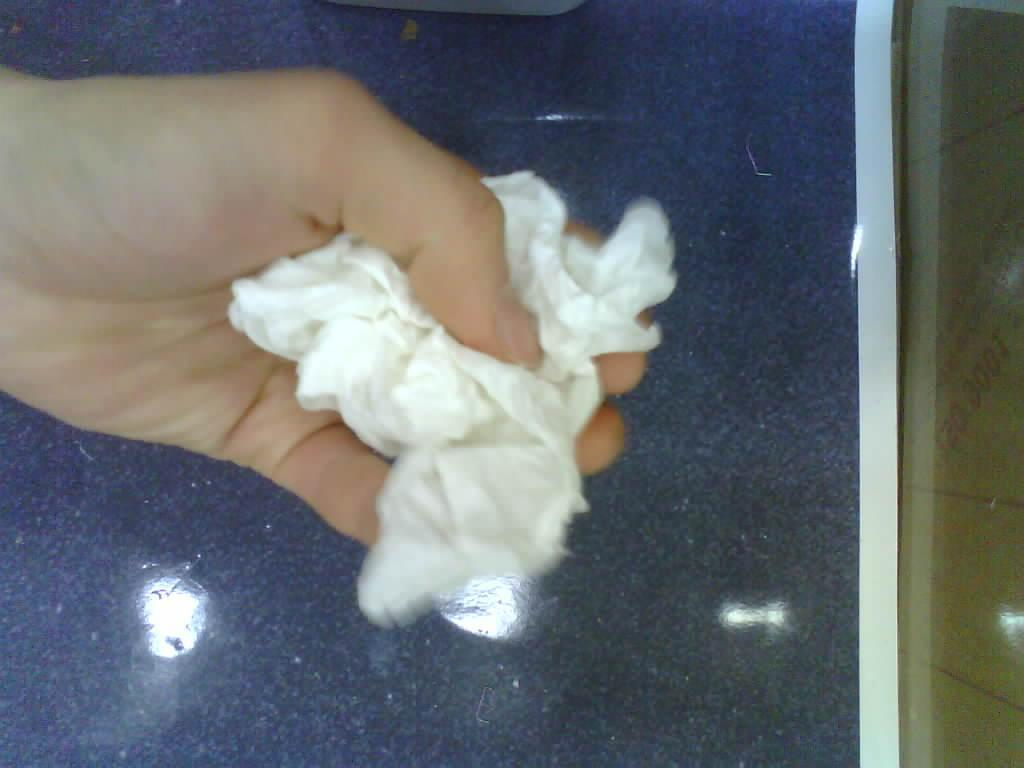paper: (232, 171, 676, 625)
